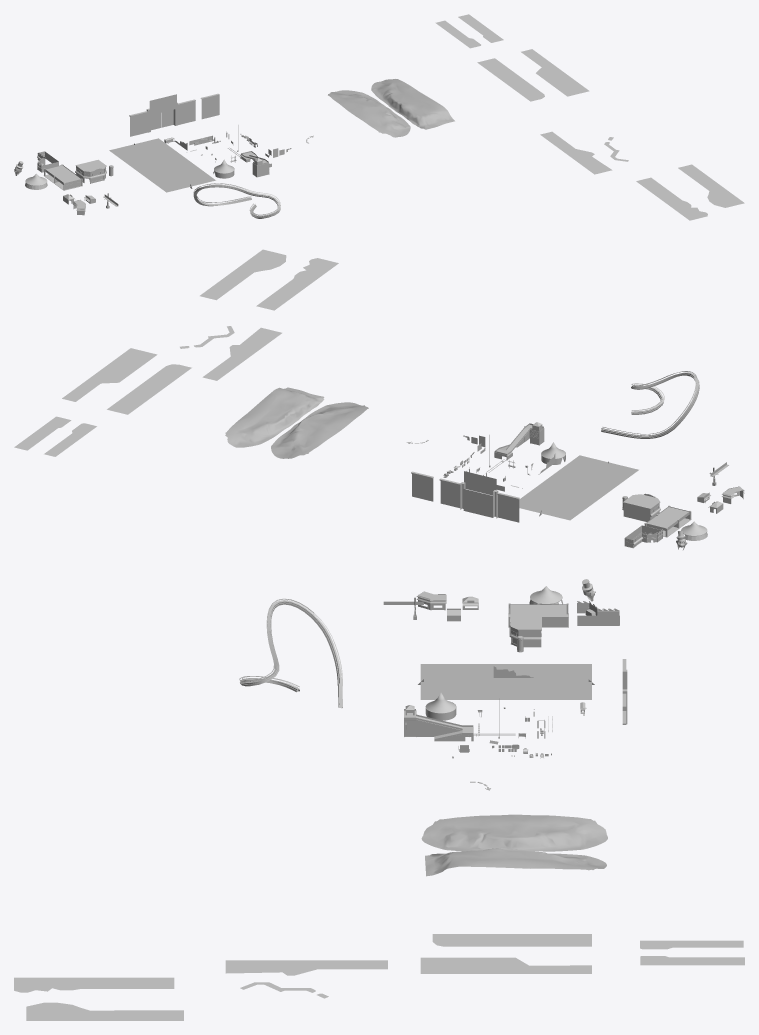
The model's file is Map_P09.fbx.
The picture shows the model from 3 angles, top to bottom: view 1: azimuth 30°, elevation 25°; view 2: azimuth 150°, elevation 25°; view 3: azimuth 270°, elevation 25°; orthographic projection. The views are drawn at different scales.
Visible parts, largest first — view 1: Terrain_Test, Terrain_Test_02, Terrain_Test_01, Assets_Gate, Nen_go_03, Nen_go_04, Nen_go_05, TAU, Nen_go_06, Nen_go_07, Assets_Ent_03, Assets_Ent_32 (+4 smaller); view 2: Terrain_Test, Terrain_Test_02, Terrain_Test_01, Assets_Gate, Nen_go_03, Nen_go_04, TAU, Nen_go_05, Nen_go_06, Nen_go_07, Assets_Ent_32, Assets_Ent_03 (+5 smaller); view 3: Terrain_Test, Terrain_Test_01, Terrain_Test_02, Nen_go_03, Nen_go_05, Nen_go_06, Nen_go_04, Nen_go_07, TAU, Assets_Concrete_39, Assets_Ent_03, Assets_Ent_32 (+3 smaller).
Boxes of the visible parts, x1,y1,x2,y2 form: Terrain_Test: (109, 138, 215, 192); Terrain_Test_02: (371, 79, 454, 129); Terrain_Test_01: (328, 90, 410, 137); Assets_Gate: (129, 94, 195, 136); Nen_go_03: (521, 49, 589, 96); Nen_go_04: (477, 58, 544, 101); Nen_go_05: (678, 164, 744, 207); TAU: (193, 183, 280, 218); Nen_go_06: (636, 177, 707, 220); Nen_go_07: (540, 131, 612, 174); Assets_Ent_03: (44, 164, 82, 190); Assets_Ent_32: (75, 159, 106, 183); Terrain_Test: (519, 455, 638, 520); Terrain_Test_02: (225, 387, 324, 447); Terrain_Test_01: (271, 402, 368, 458); Assets_Gate: (439, 471, 519, 522); Nen_go_03: (62, 348, 157, 401); Nen_go_04: (107, 364, 191, 414); TAU: (601, 371, 699, 438); Nen_go_05: (200, 249, 286, 300); Nen_go_06: (256, 258, 338, 310); Nen_go_07: (202, 327, 281, 380); Assets_Ent_32: (622, 493, 660, 521); Assets_Ent_03: (644, 505, 691, 537); Terrain_Test: (420, 664, 591, 699); Terrain_Test_01: (421, 814, 607, 851); Terrain_Test_02: (425, 848, 606, 876); Nen_go_03: (420, 957, 591, 973); Nen_go_05: (26, 1002, 183, 1020); Nen_go_06: (14, 977, 174, 992); Nen_go_04: (432, 934, 591, 946); Nen_go_07: (225, 960, 387, 975); TAU: (239, 598, 342, 708); Assets_Concrete_39: (404, 709, 473, 741); Assets_Ent_03: (508, 603, 568, 627); Assets_Ent_32: (509, 613, 541, 647).
Bounding box in the file's own units: 529 × 61.52 × 414.
